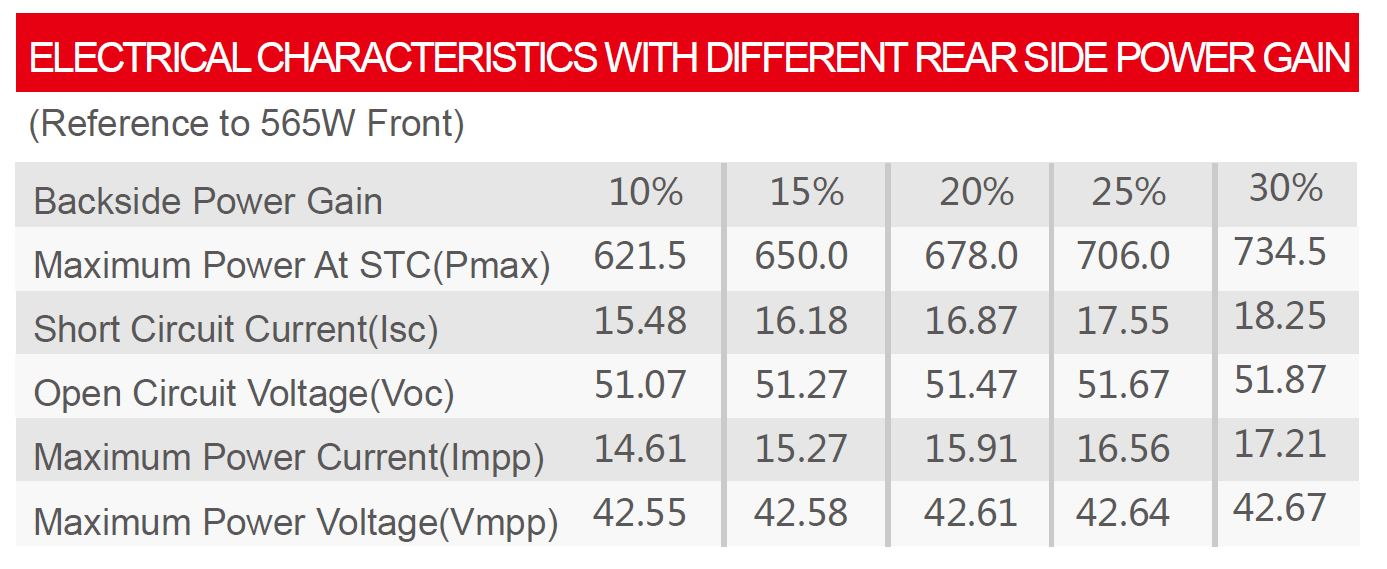table: (8, 156, 1370, 562)
table column: (20, 159, 584, 546), (723, 161, 890, 544), (1054, 161, 1217, 543), (891, 162, 1053, 542), (1216, 165, 1365, 543), (583, 162, 723, 547)
table name: (17, 11, 1355, 91)
table row: (17, 353, 1361, 418), (18, 225, 1360, 290), (17, 480, 1368, 544), (19, 161, 1358, 224), (16, 418, 1365, 479), (18, 293, 1358, 351)
table row header: (23, 161, 580, 546)
